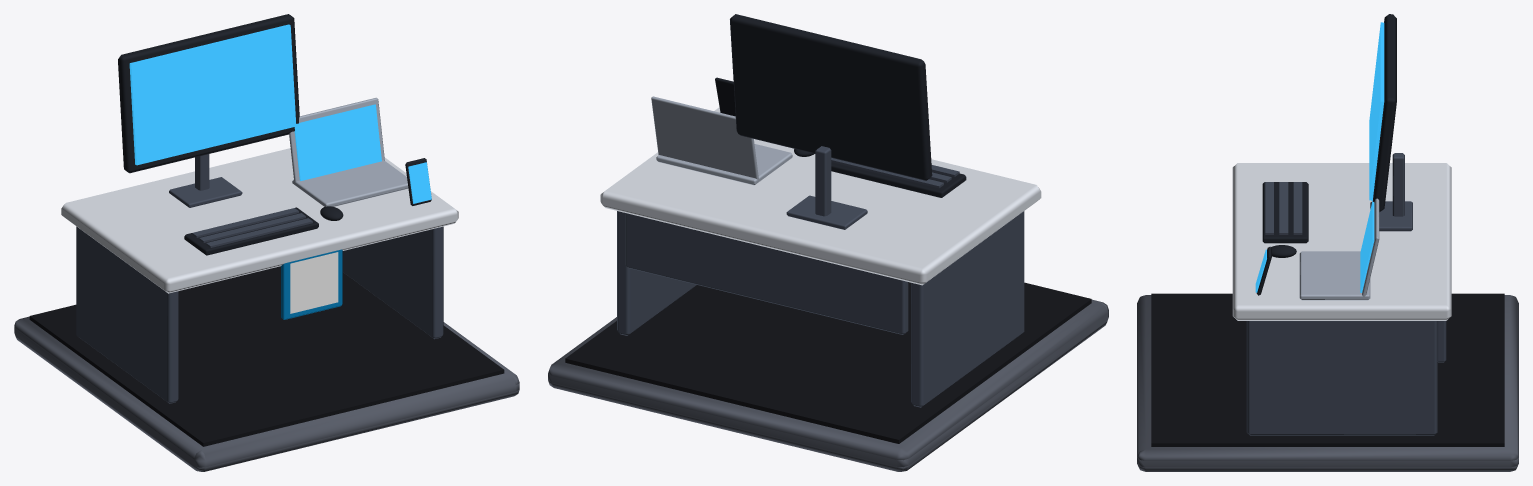
Rendered from client.glb.
The picture shows the model from 3 angles, left to right: view 1: azimuth 30°, elevation 25°; view 2: azimuth 150°, elevation 25°; view 3: azimuth 270°, elevation 25°; orthographic projection. The views are drawn at different scales.
Visible parts, largest first — view 1: body.rubber, body.white, body.screen, body.steel, body.concrete, body.bezel, body.steel_light, body.badge, body.accent; view 2: body.steel, body.rubber, body.white, body.bezel, body.concrete, body.steel_light; view 3: body.rubber, body.steel, body.white, body.concrete, body.bezel, body.steel_light, body.screen.
Boxes of the visible parts, x1,y1,x2,y2 form: body.rubber: [29, 266, 504, 446]; body.white: [61, 148, 458, 293]; body.screen: [129, 24, 431, 203]; body.steel: [76, 154, 443, 403]; body.concrete: [14, 316, 519, 471]; body.bezel: [118, 14, 431, 255]; body.steel_light: [289, 97, 408, 206]; body.badge: [290, 252, 338, 313]; body.accent: [281, 249, 342, 319]; body.steel: [617, 146, 1024, 407]; body.rubber: [565, 282, 1091, 443]; body.white: [600, 107, 1041, 285]; body.bezel: [715, 14, 966, 197]; body.concrete: [548, 299, 1108, 471]; body.steel_light: [651, 96, 792, 185]; body.rubber: [1151, 293, 1504, 446]; body.steel: [1246, 153, 1446, 435]; body.white: [1232, 163, 1451, 320]; body.concrete: [1137, 295, 1518, 471]; body.bezel: [1256, 14, 1396, 295]; body.steel_light: [1299, 198, 1379, 300]; body.screen: [1255, 22, 1384, 292].
Bounding box in the file's own units: 1.08 × 1.01 × 1.08.
